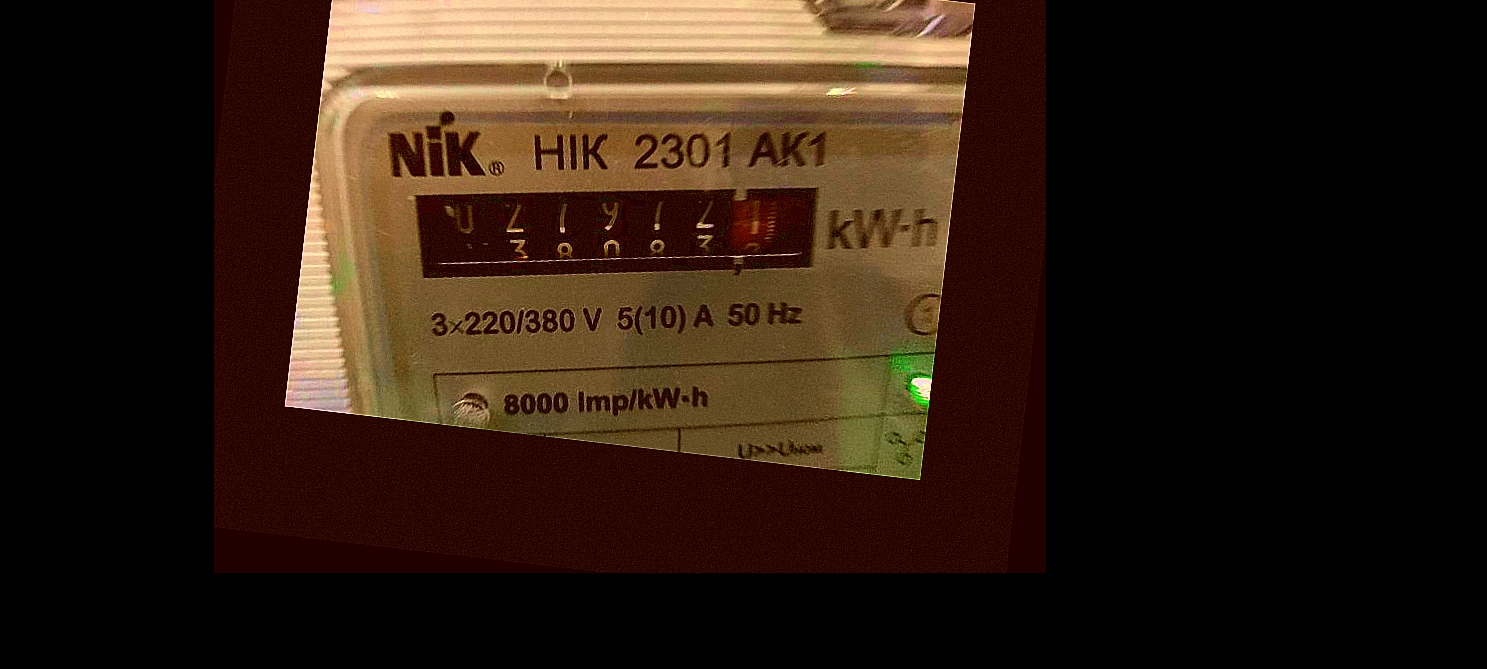0: (448, 197, 480, 236)
1: (743, 194, 770, 239)
2: (498, 194, 531, 236), (689, 192, 722, 232)
7: (642, 191, 672, 235), (548, 196, 575, 236)
9: (596, 195, 626, 233)
screen: (388, 130, 855, 335)
